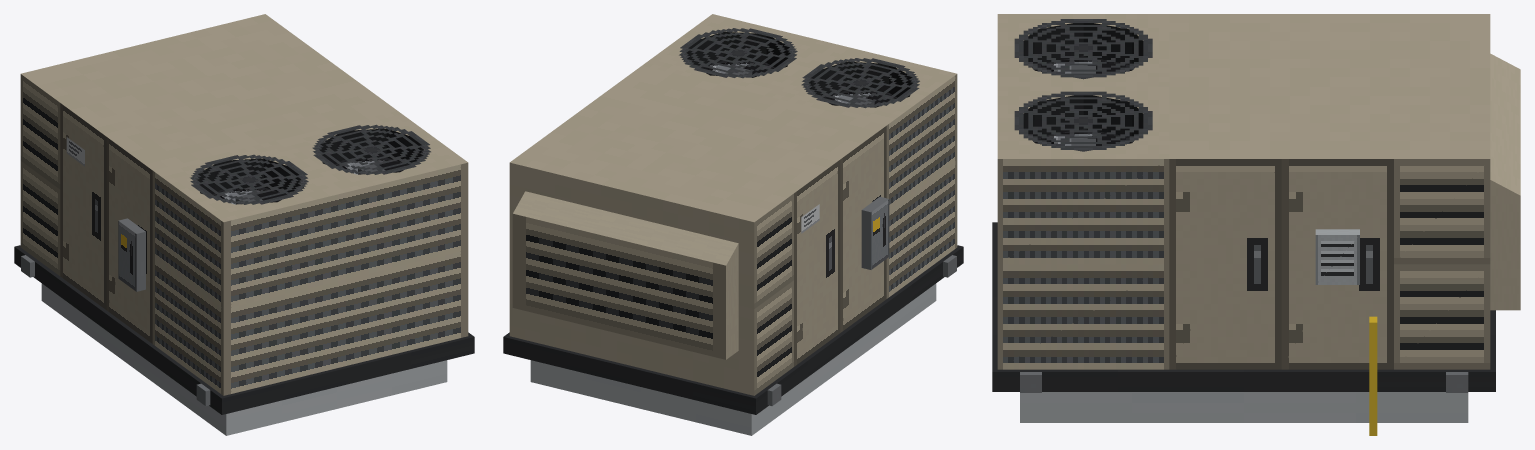
The model's file is rtu_item.obj.
3 renders of one model, left to right at view 1: azimuth 30°, elevation 25°; view 2: azimuth 150°, elevation 25°; view 3: azimuth 270°, elevation 25°, orthographic. The views are drawn at different scales.
Visible parts, largest first — view 1: unit; view 2: unit; view 3: unit.
Boxes of the visible parts, x1,y1,x2,y2 form: unit: (14,14,474,435); unit: (503,14,963,435); unit: (992,14,1520,435).
Bounding box in the file's own units: 0.6577 × 0.534 × 0.9375.
